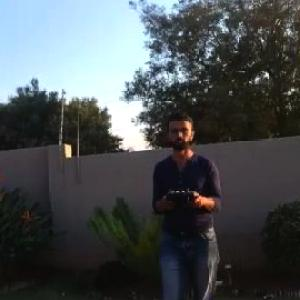follow: (147, 103, 229, 299)
